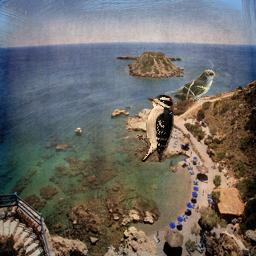Cuckoo: (165, 69, 219, 102)
Woodpecker: (134, 93, 174, 162)
